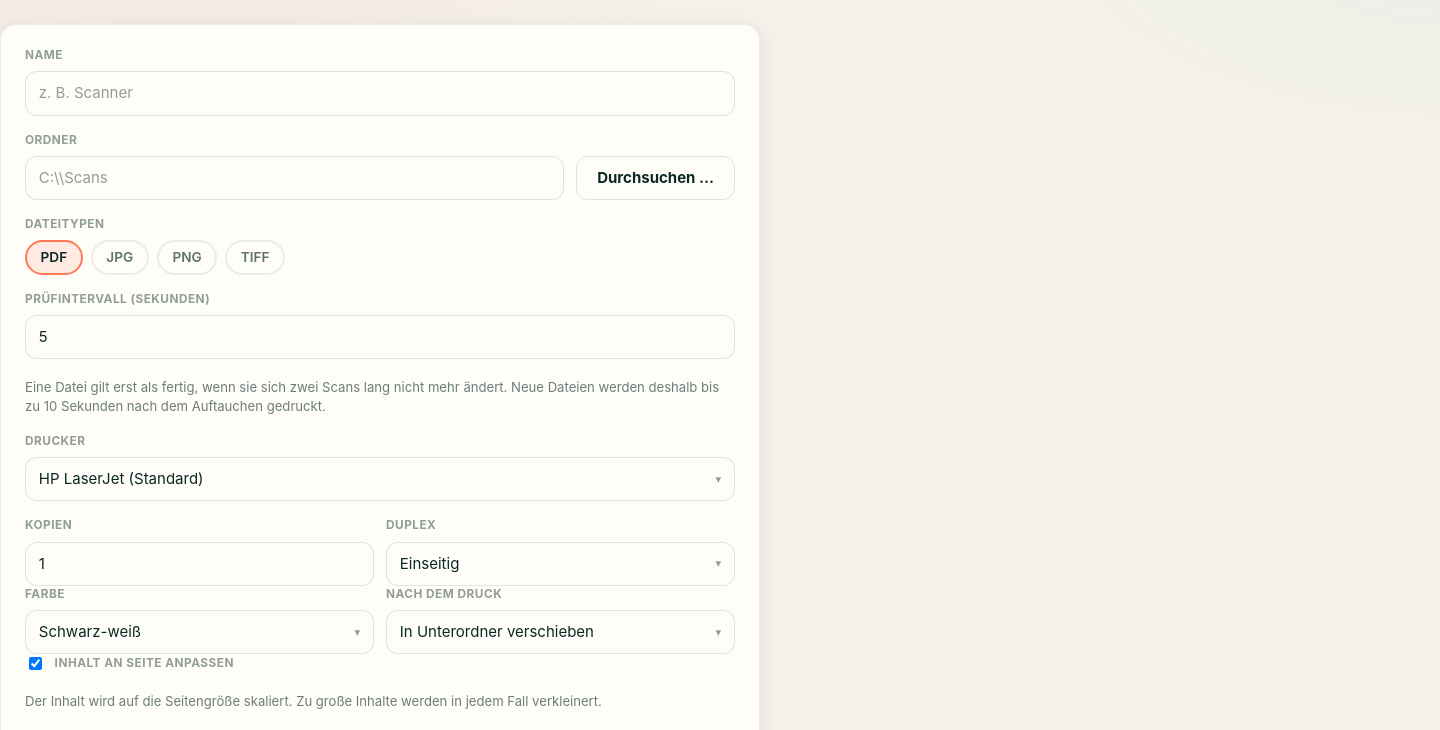
FolderDialog form › refuses to submit without a name, a path and at least one file type
This screenshot has width=1440, height=730.
In the field labelled "Name": (380, 93) [25,71,735,116], type "Scanner"
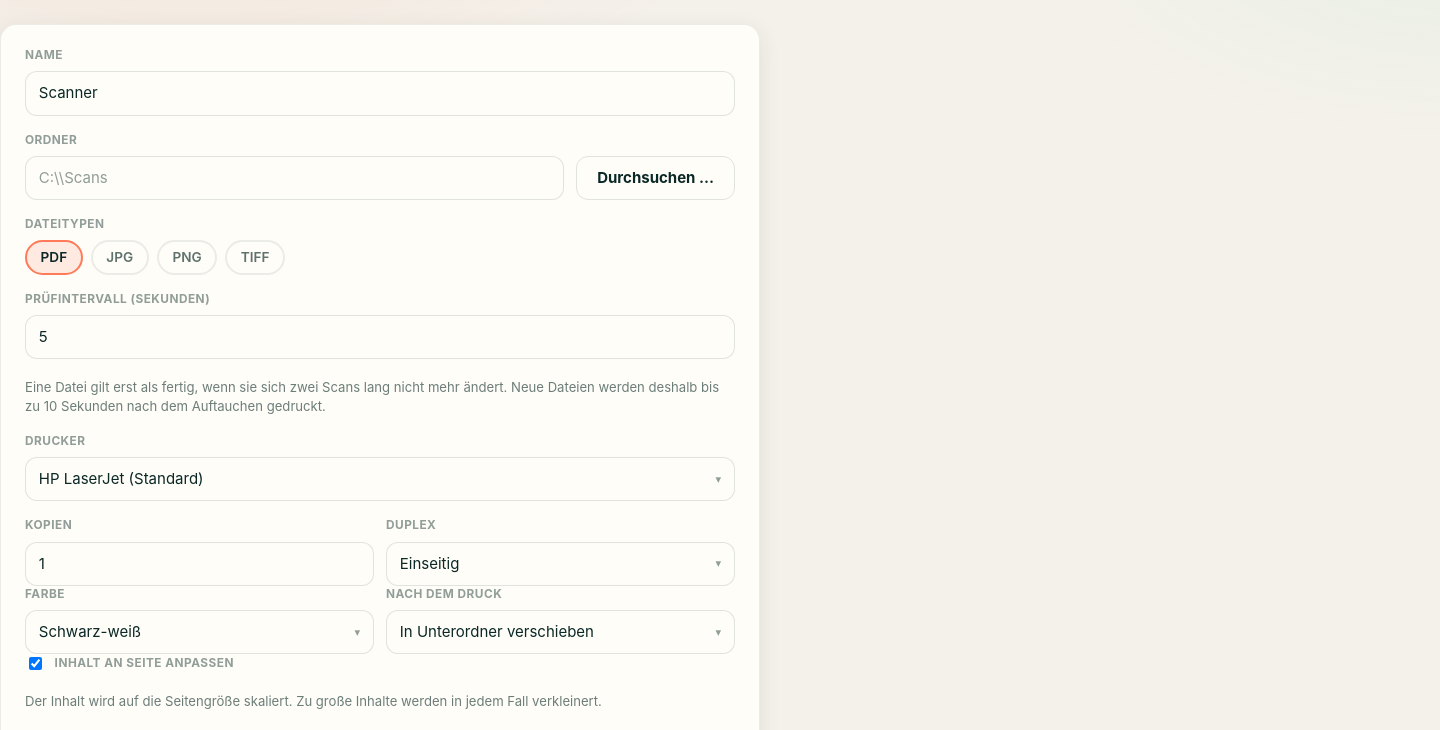
In the field labelled "Ordner": (295, 178) [25,156,564,200], type "/tmp/x"
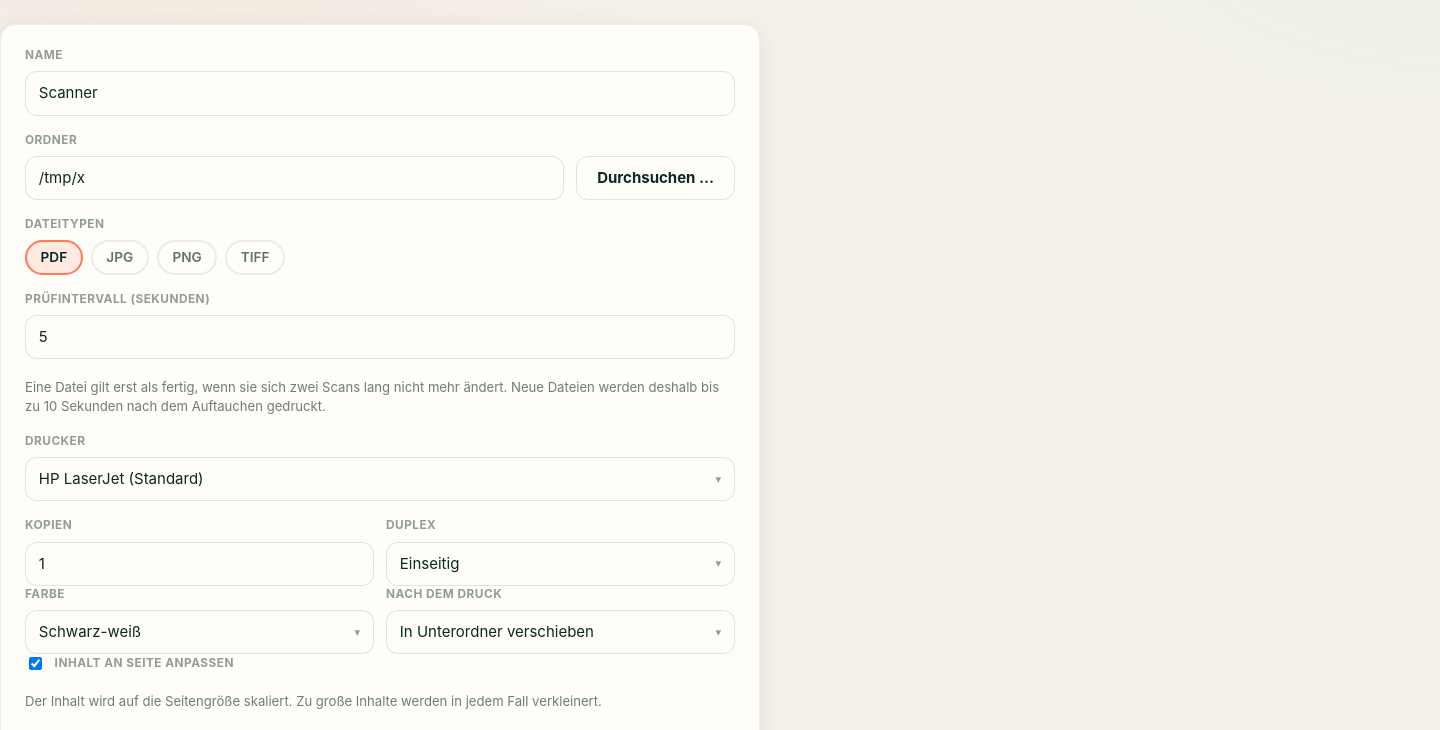
Click the button "PDF": click(54, 258) [25,240,83,275]
(page scrolled)
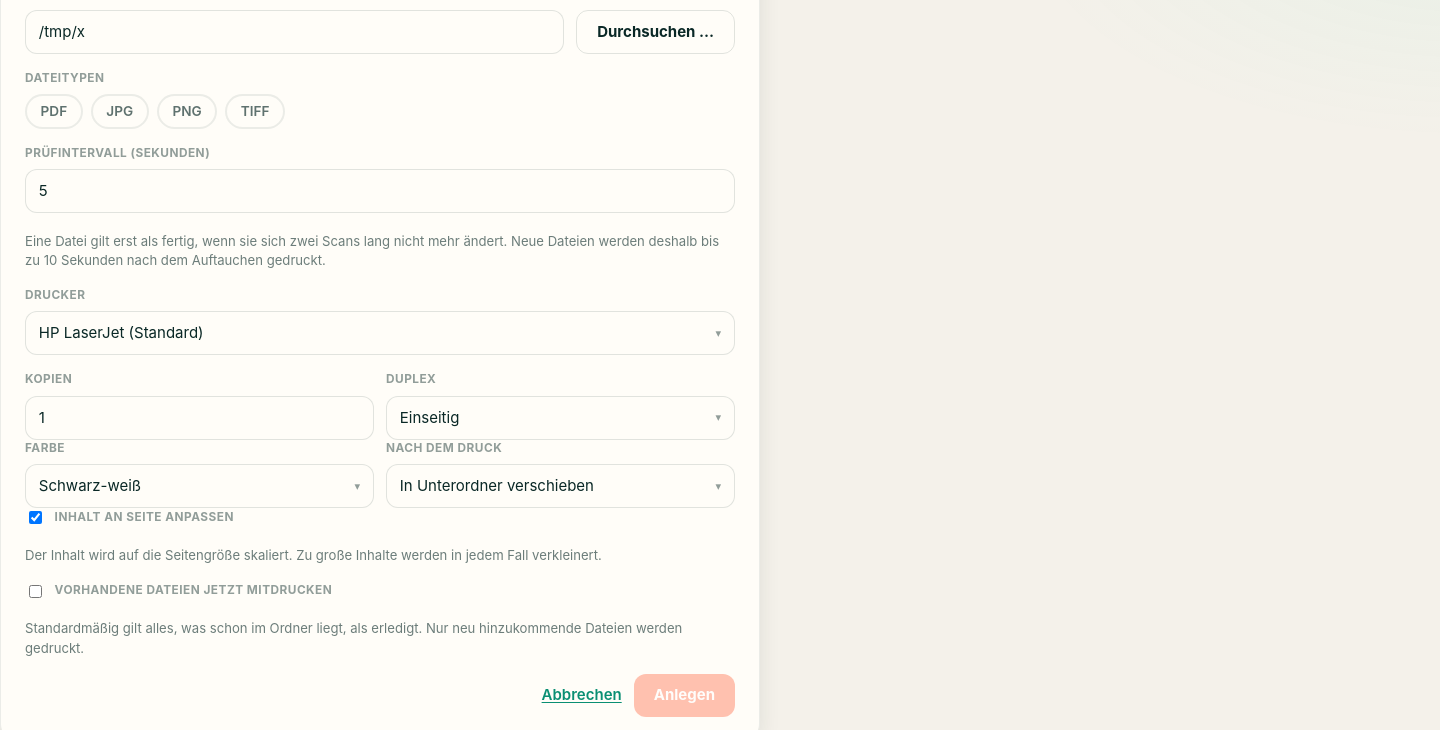
Expected: the button "Anlegen" is disabled, [634,674,735,717]
